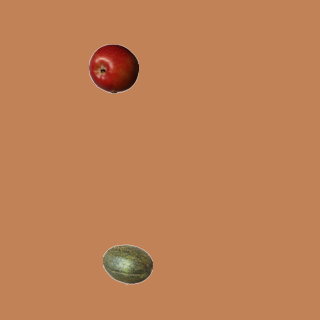Apple Braeburn: (88, 43, 138, 93)
Melon Piel de Sapo: (102, 239, 152, 289)
